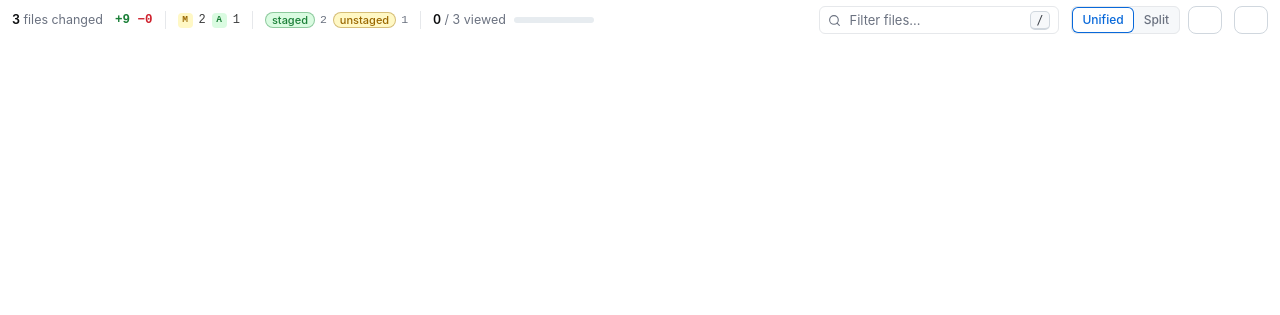
Scenario: the secret gate (Design §14.3, contracts `selectSecretGate`) › replaces the three line-carrying rows with the warning and a list of findings
Click the button named "Export" at {"x": 1251, "y": 20}, box left=1234, top=6, right=1268, bottom=34
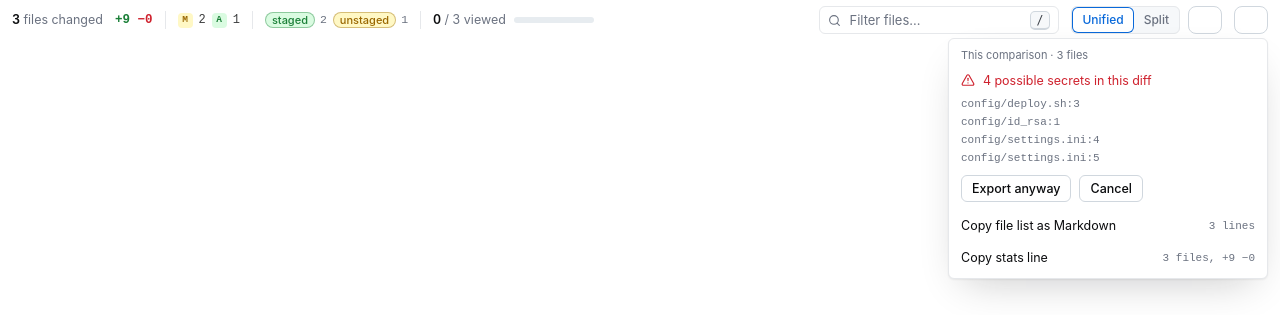
Check: the text "4 possible secrets in this diff" is shown, box left=983, top=71, right=1152, bottom=91
Check: the list item "config/deploy.sh:3" is shown, box left=961, top=98, right=1080, bottom=110
